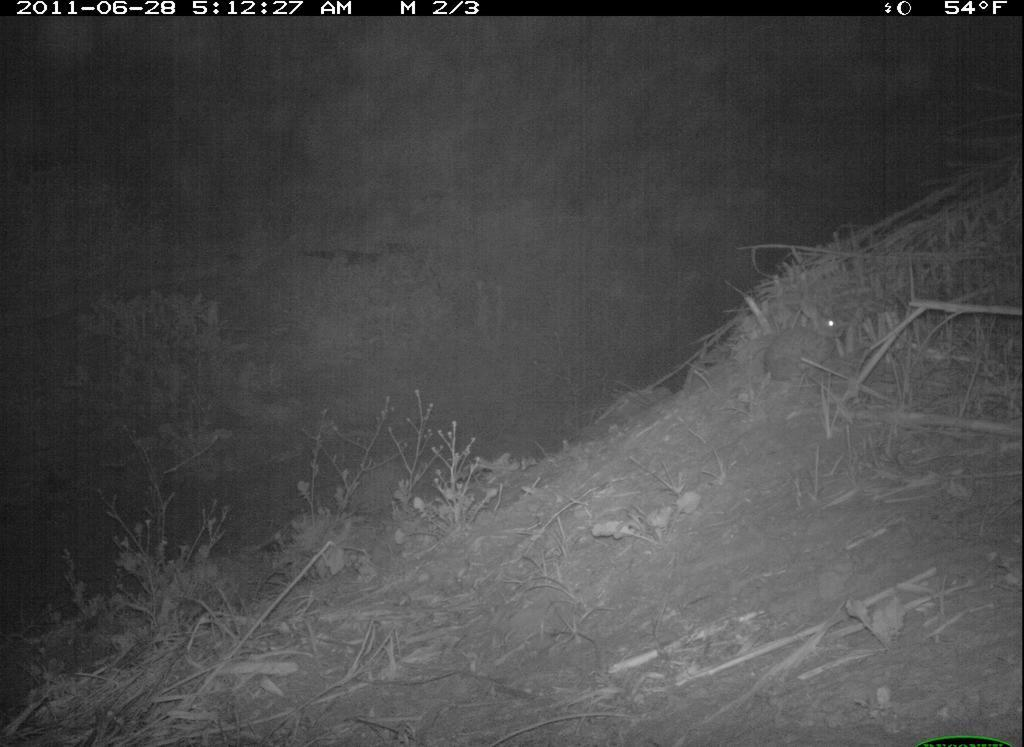rabbit: (760, 291, 854, 388)
